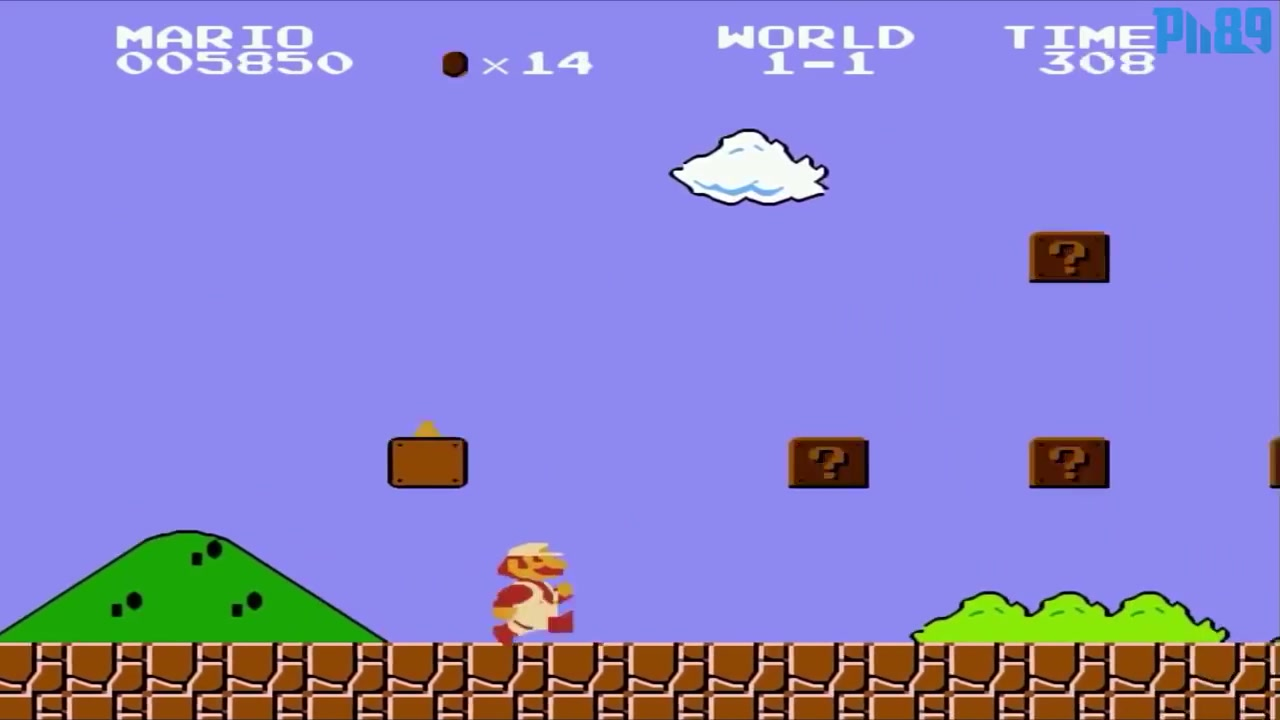mario: (481, 536, 591, 645)
